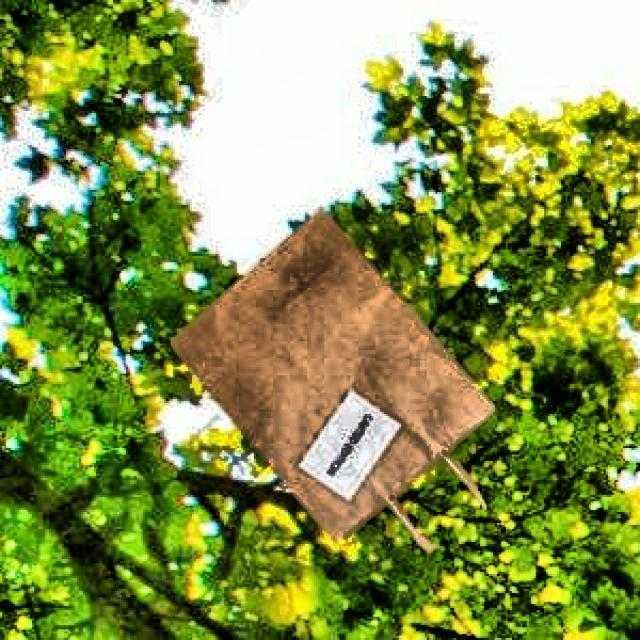Paper-bag: (163, 193, 494, 571)
